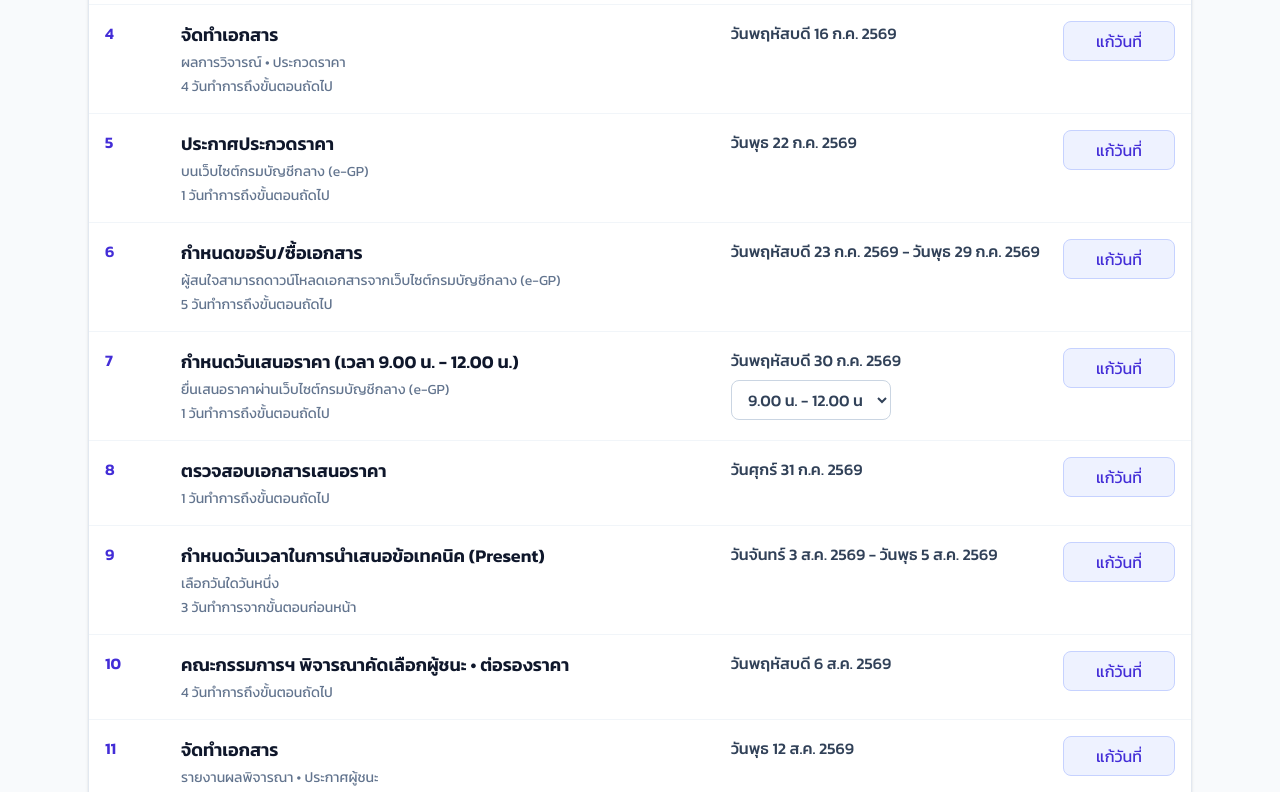
TimelineDetail › renders and immediately saves the bid submission time dropdown
(page scrolled)
expect the text "กำหนดวันเสนอราคา (เวลา 9.00 น. - 12.00 น.)" is shown: met, box [181, 348, 519, 375]
expect the text "ยื่นเสนอราคาผ่านเว็บไซต์กรมบัญชีกลาง (e-GP)" is shown: met, box [181, 379, 449, 400]
Select "13.00 น. - 16.30 น." in the dropdown named "เวลาเสนอราคา": (811, 400) [731, 380, 891, 420]
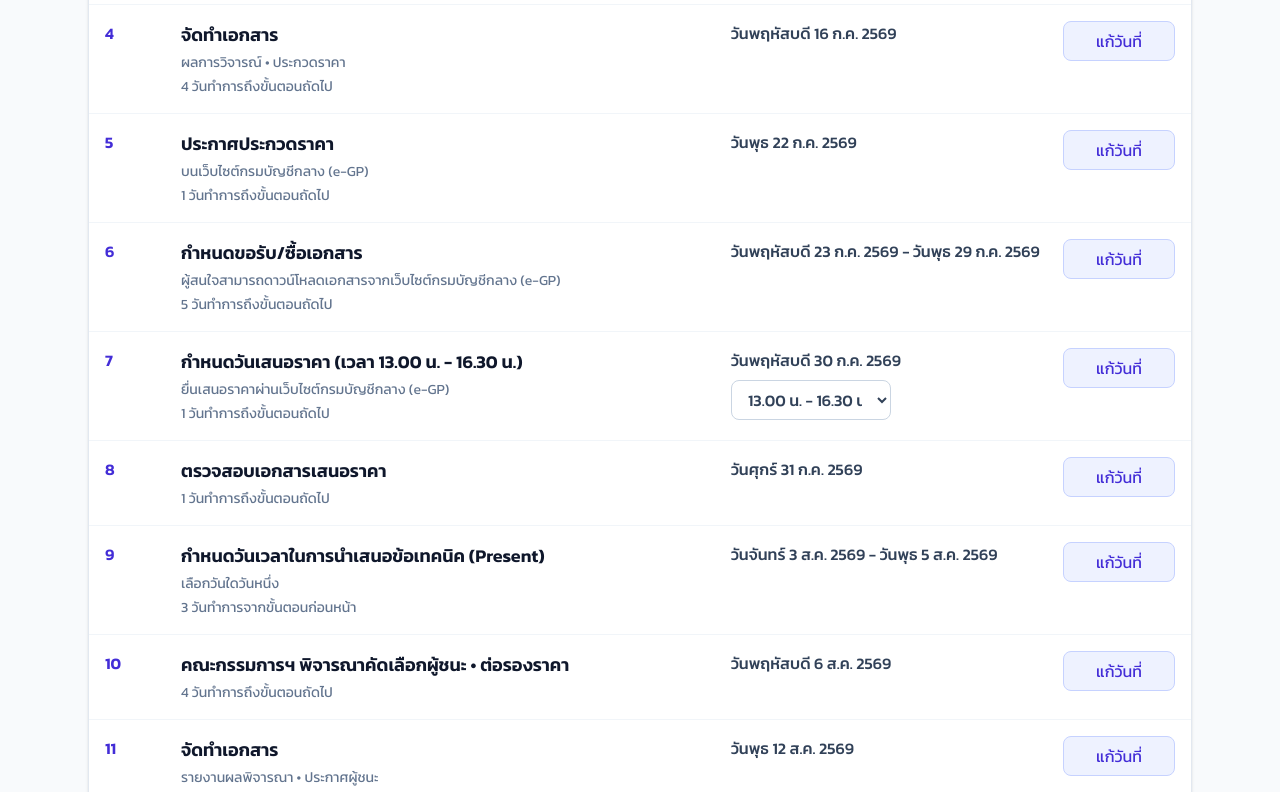
expect the text "กำหนดวันเสนอราคา (เวลา 13.00 น. - 16.30 น.)" is shown: met, box [181, 348, 523, 375]
